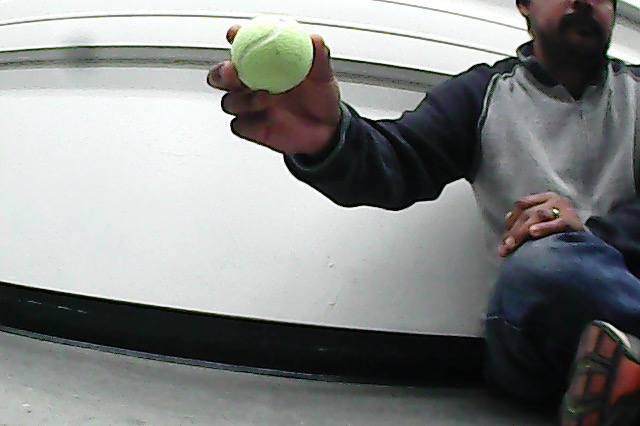ball: (228, 9, 319, 98)
